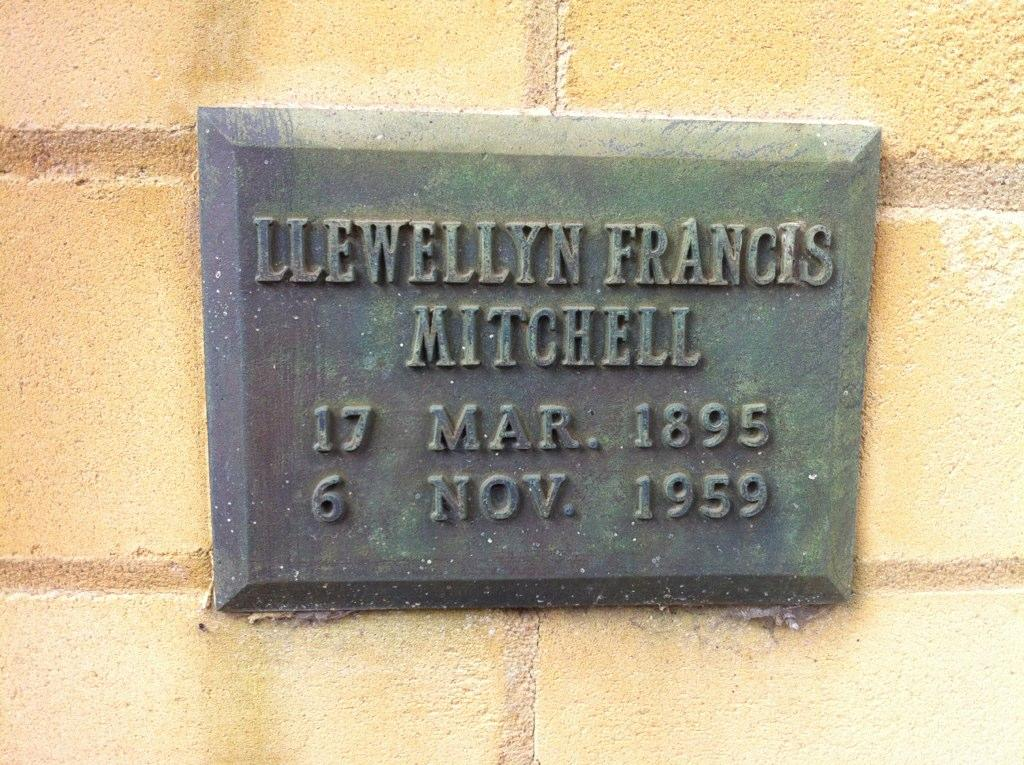plaque: (190, 97, 883, 618)
